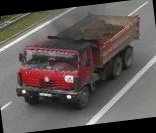truck: (5, 6, 150, 116)
